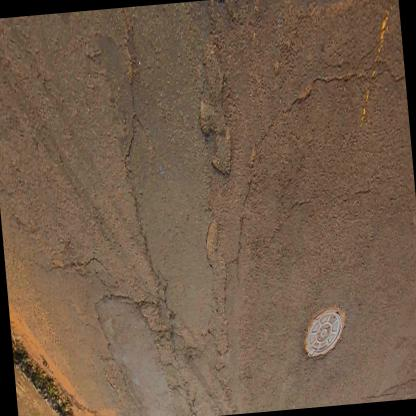manholes: (290, 284, 352, 370)
